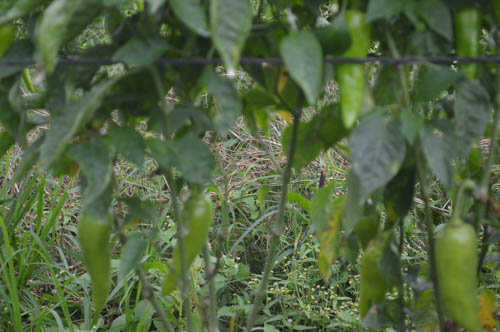ChiliPepper: (159, 198, 213, 289), (332, 11, 371, 134), (439, 224, 484, 327), (75, 213, 117, 309), (359, 248, 389, 316)
